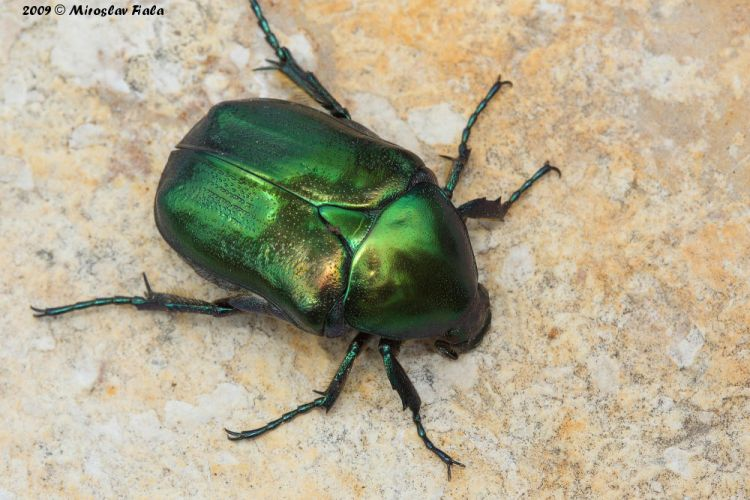Protaetia_angustata_angustata: (23, 1, 569, 481)
